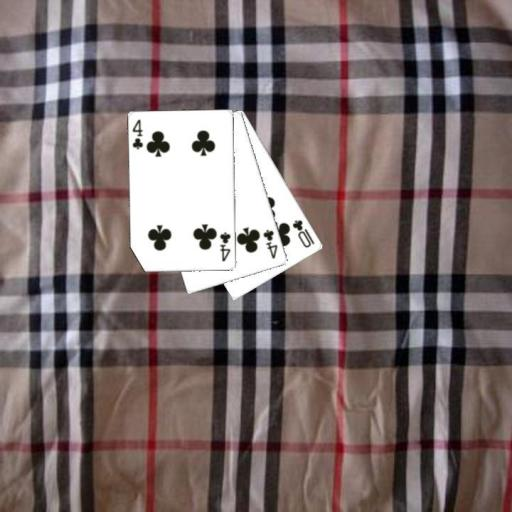10C: (290, 217, 317, 249)
4C: (261, 226, 280, 260), (129, 116, 144, 151), (217, 229, 232, 263)
